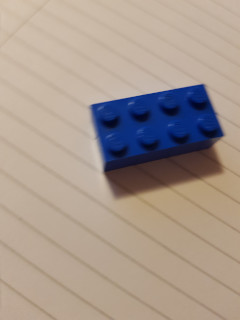2x4 blue: (87, 83, 226, 173)
